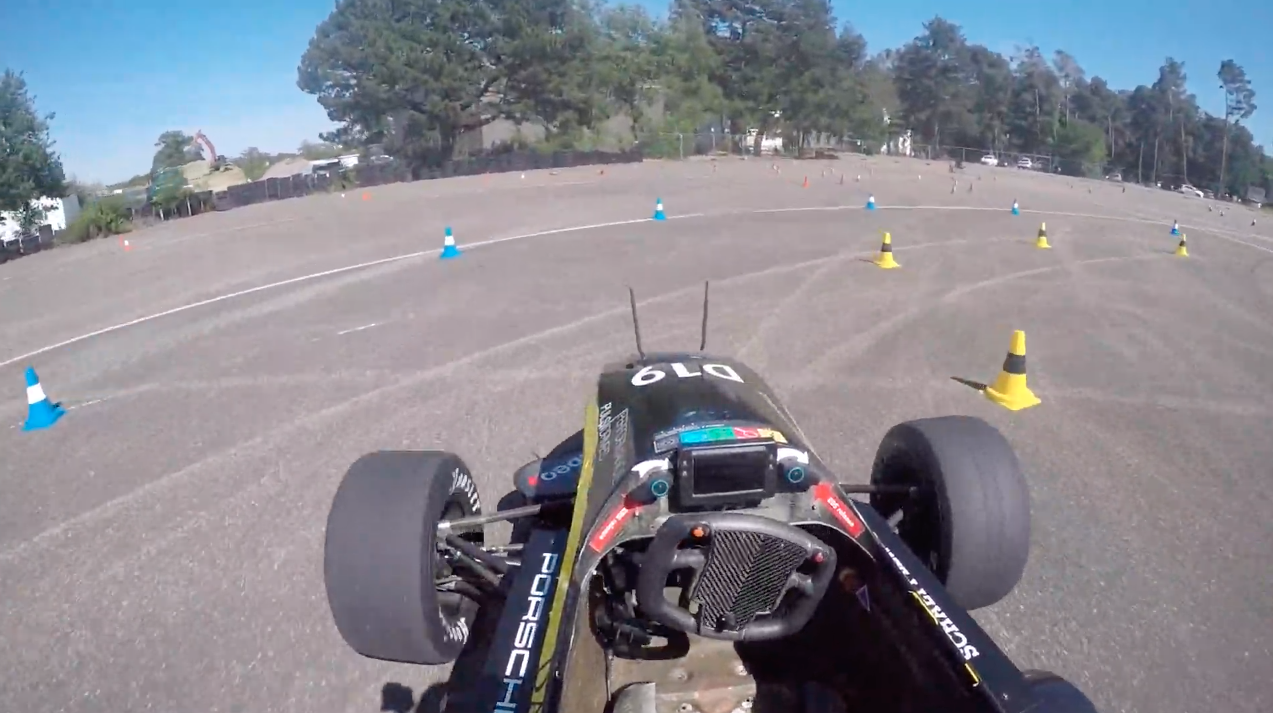lcone: (14, 361, 70, 436), (434, 222, 466, 263), (650, 195, 672, 222)
rcone: (974, 326, 1046, 415), (870, 229, 908, 271), (1030, 219, 1055, 250)
